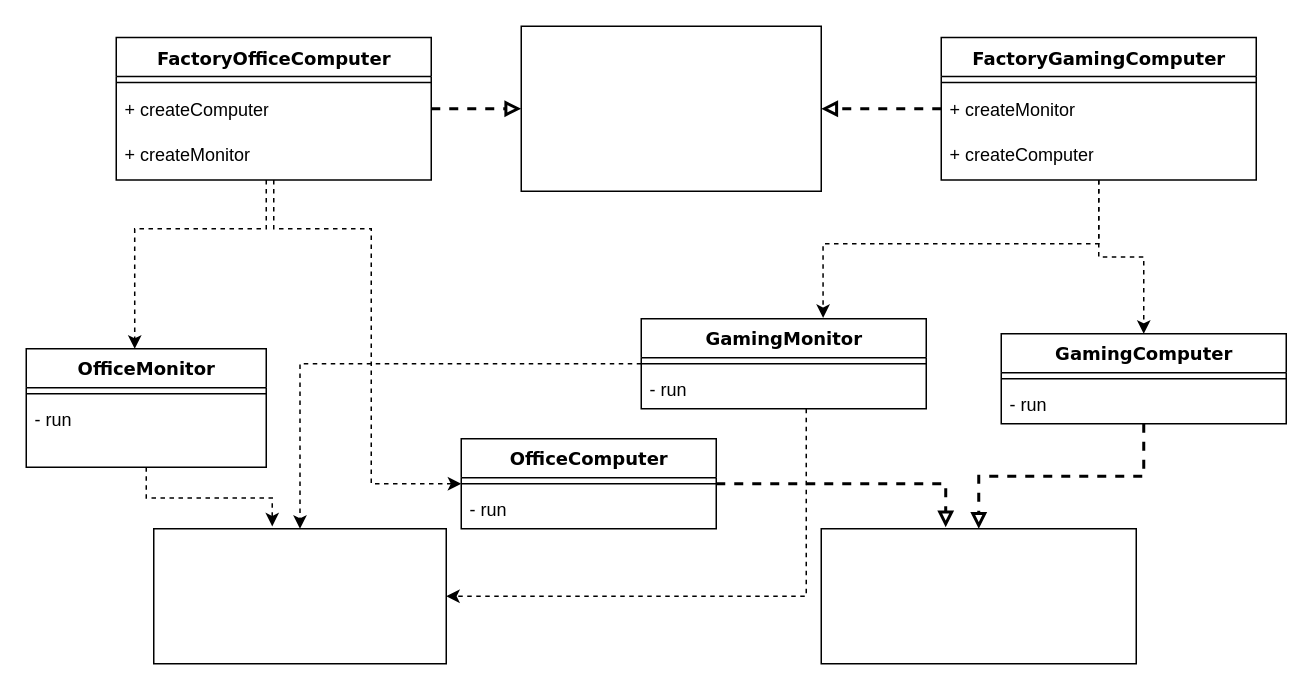
Some shapes in this 1313 by 690 pixel diagram are drawn without their labels. Each missing label, with the centre of its shape:
<<Interface>> Computer - Field ~ void Running(): [978,595]
<<Interface>> ComputerFactory - Field + createComputer + createMonitor: [670,108]
<<Interface>> Monitor - Field ~ void Running(): [299,595]
